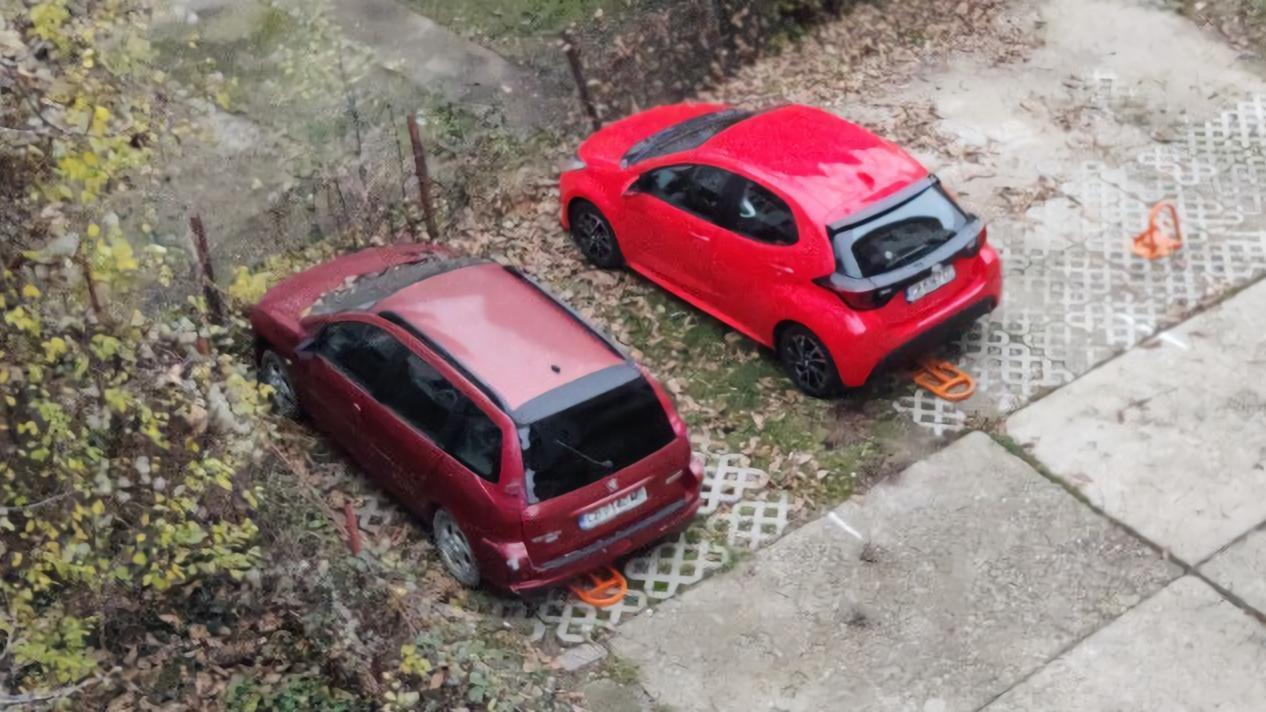Car: (243, 237, 708, 606), (549, 95, 1009, 405)
